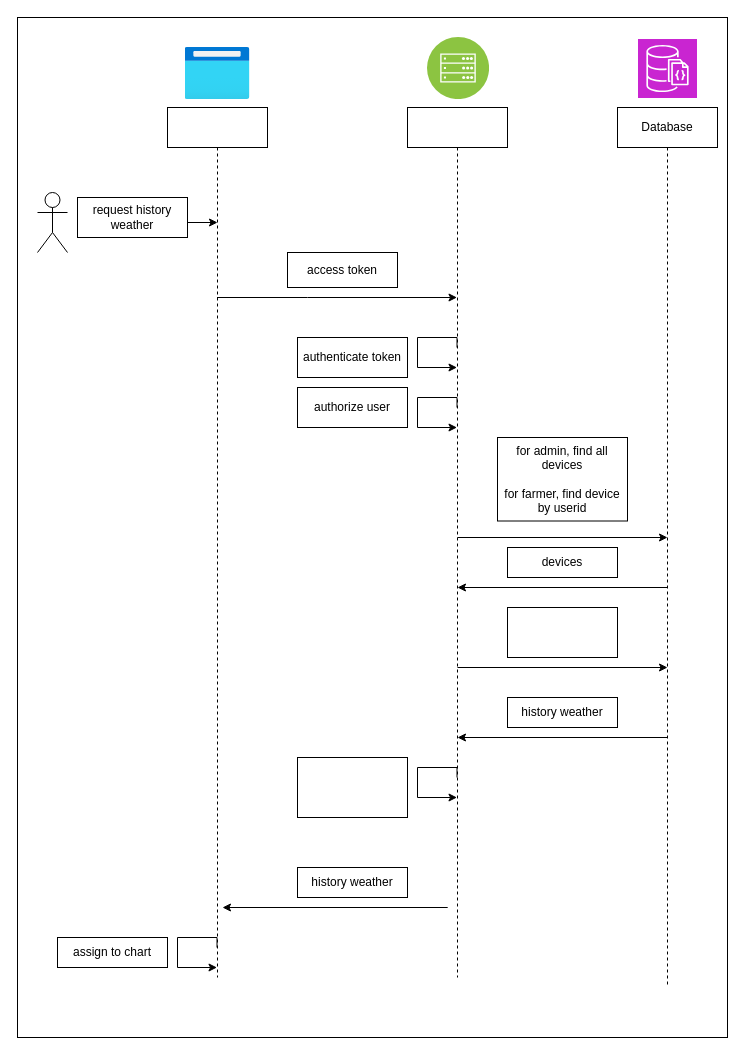
This 745x1055 diagram has some shape labels left out. The shapes that lost their labels are listed below. From the top down, each one's box as (x1, y1, x2, y2) in pixels, then its label:
(36, 192, 68, 252): User
(166, 106, 268, 978): Frontend
(406, 106, 508, 978): Backend
(506, 606, 618, 658): find the history weather within time period
(296, 756, 408, 818): find the nearest data by iterating time and format the data
